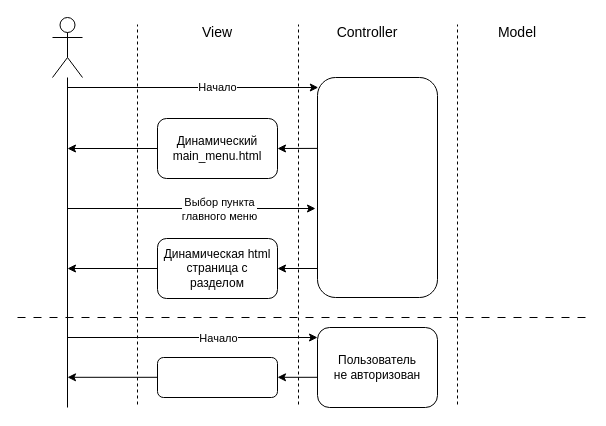
Image size: 606x426. Some labels were removed from this diagram. Here are the shapes that lost their labels. From the top down, the centre of each, then its label:
point 377,187: route
point 217,377: Переход на контроллер auth
